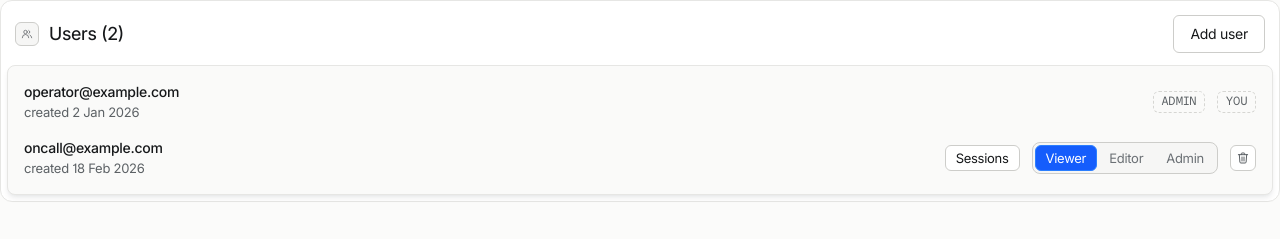
Test case: shows the server's refusal on the row it is about
This screenshot has width=1280, height=239.
Expected: the element named "Role for oncall@example.com" is shown, [1032,142,1218,174]
What coordinates should you click on to do the following:
click the button "Editor"
I would click on:
 (1126, 158)
Its box is [1098,145,1154,171].
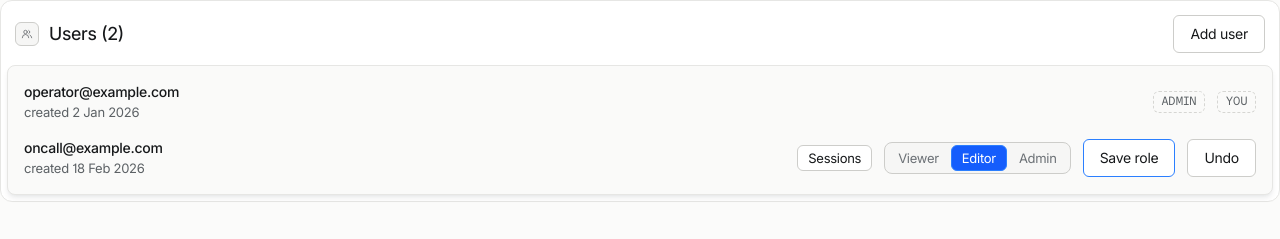
What coordinates should you click on to do the following:
click the button with aria-label "Save role for oncall@example.com"
I would click on:
 (1129, 158)
Its box is [1083,139,1175,177].
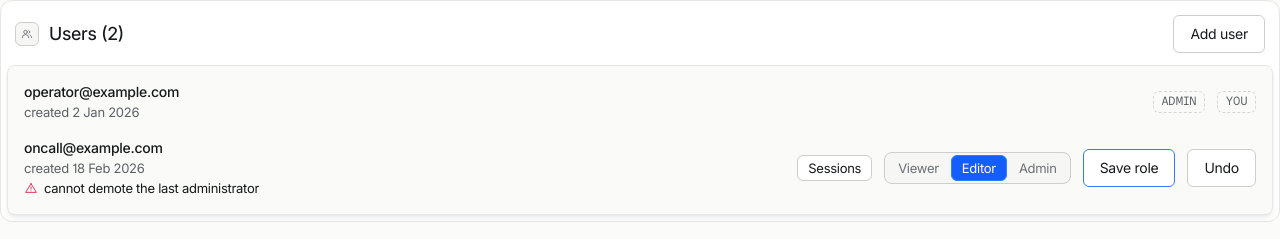
Expected: the message reads "cannot demote the last administrator", [44,180,259,196]
